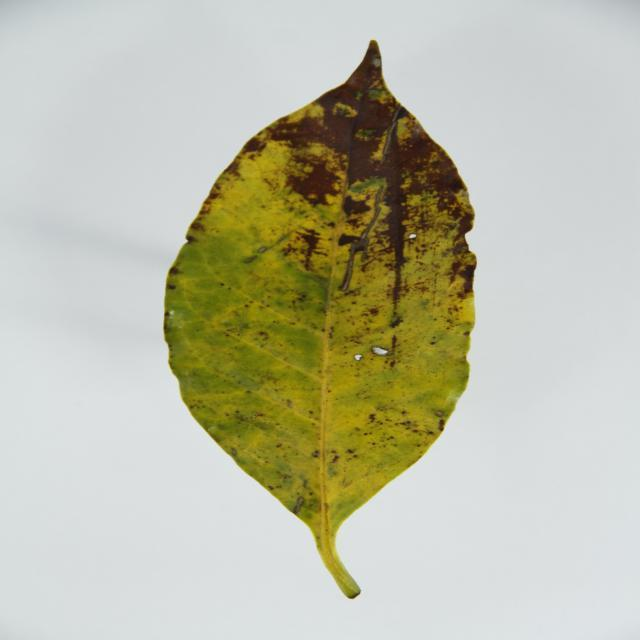DeficienciaNutricional-Potasio: (165, 41, 476, 599)
